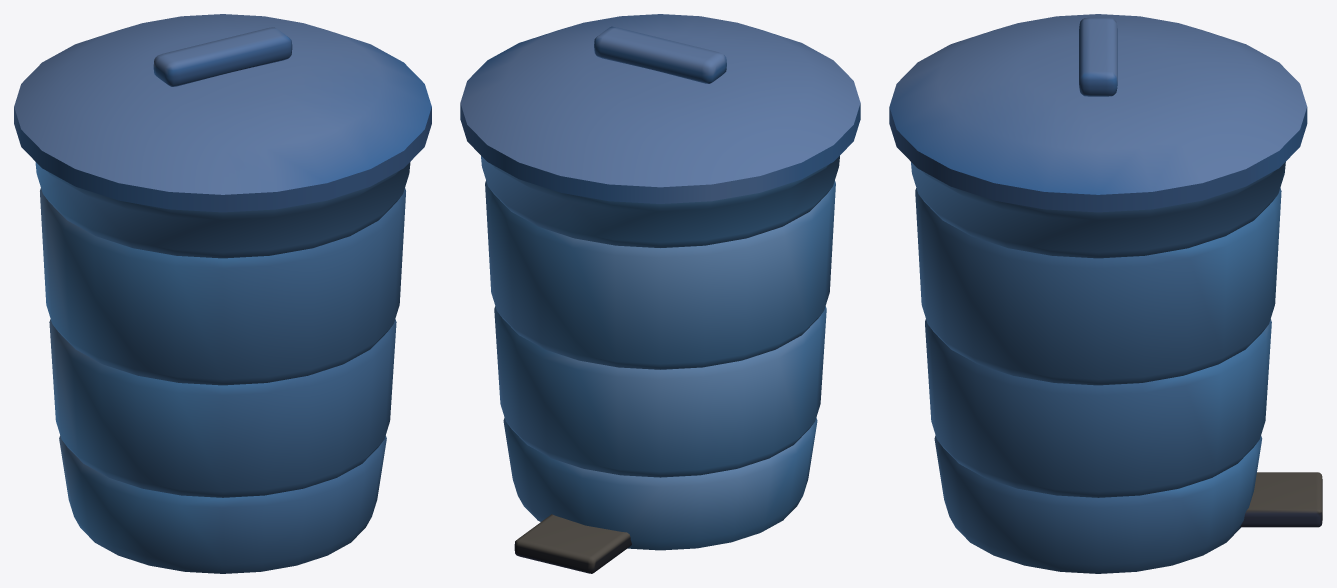
Rendered from Trash.fbx.
3 renders of one model, left to right at view 1: azimuth 30°, elevation 25°; view 2: azimuth 150°, elevation 25°; view 3: azimuth 270°, elevation 25°, orthographic. The views are drawn at different scales.
Visible parts, largest first — view 1: SM_Prop_TrashBin; view 2: SM_Prop_TrashBin; view 3: SM_Prop_TrashBin.
Boxes of the visible parts, bbox=[...] form: SM_Prop_TrashBin: bbox=[14, 14, 431, 573]; SM_Prop_TrashBin: bbox=[460, 14, 860, 573]; SM_Prop_TrashBin: bbox=[889, 14, 1322, 573].
Size of the model in its own units: 2.6 by 3.25 by 2.69.
